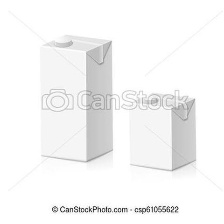carton: (34, 31, 118, 166), (125, 89, 203, 172)
